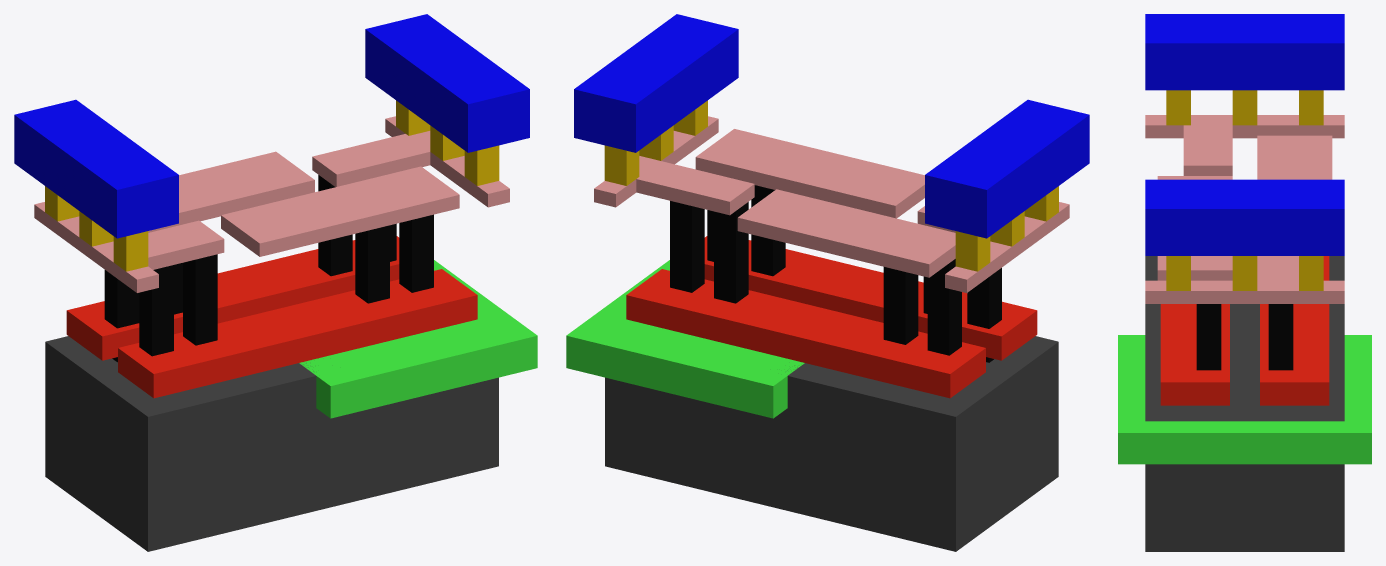
The model's file is sky130_fd_sc_hd__conb_1.obj.
3 views of the same model, side by side, from view 1: azimuth 30°, elevation 25°; view 2: azimuth 150°, elevation 25°; view 3: azimuth 270°, elevation 25° (orthographic). The views are drawn at different scales.
Visible parts, largest first — view 1: subs, metal1, li, poly, nwell, licon, mcon; view 2: subs, li, metal1, poly, licon, nwell, mcon; view 3: metal1, subs, nwell, li, poly, mcon, licon.
Part boxes in pixels (box(x1,y1,x2,y2)): subs: box(45, 336, 498, 551); metal1: box(14, 14, 529, 238); li: box(34, 116, 509, 292); poly: box(66, 236, 477, 398); nwell: box(299, 260, 537, 418); licon: box(104, 175, 433, 362); mcon: box(45, 100, 499, 271); subs: box(605, 336, 1058, 551); li: box(594, 116, 1069, 292); metal1: box(574, 14, 1089, 238); poly: box(626, 236, 1037, 398); licon: box(670, 185, 1001, 362); nwell: box(566, 260, 804, 418); mcon: box(604, 100, 1058, 271); metal1: box(1145, 14, 1344, 255); subs: box(1145, 256, 1344, 551); nwell: box(1118, 335, 1371, 464); li: box(1145, 115, 1344, 303); poly: box(1160, 256, 1329, 405); mcon: box(1166, 90, 1323, 290); licon: box(1196, 304, 1293, 370).
Size of the model in its own units: 3.2 by 2.74 by 1.76.
